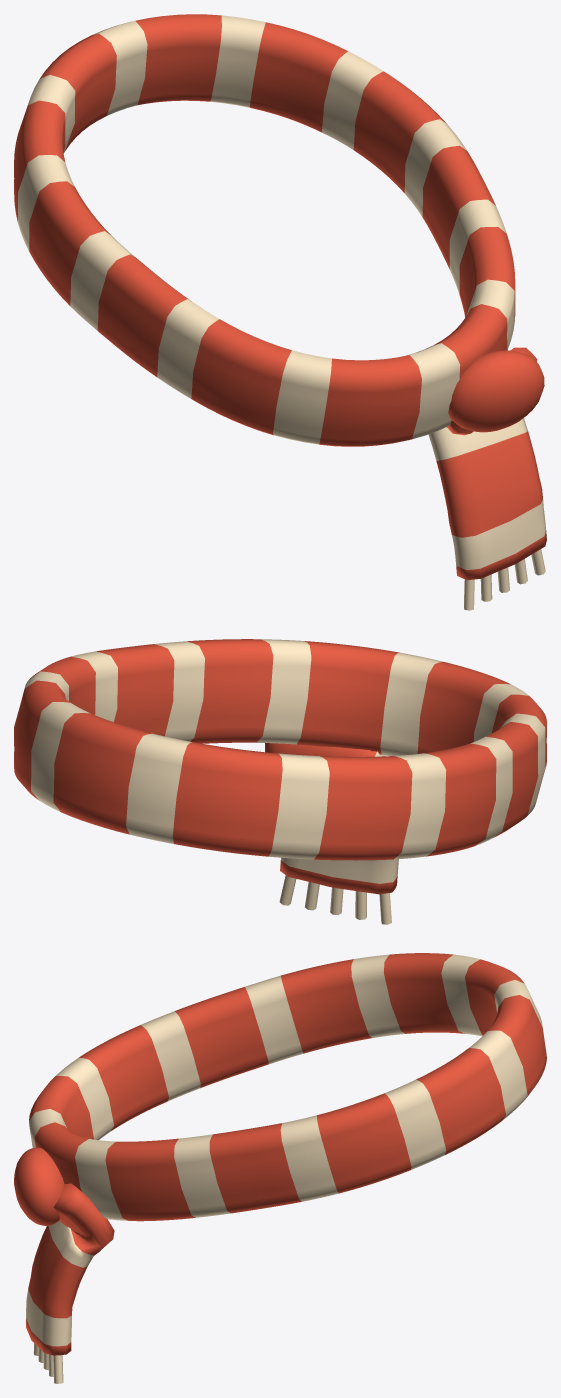
File: scarf.glb
The picture shows the model from 3 angles, top to bottom: view 1: azimuth 30°, elevation 25°; view 2: azimuth 150°, elevation 25°; view 3: azimuth 270°, elevation 25°; orthographic projection. The views are drawn at different scales.
Visible parts, largest first — view 1: loop, end, knot; view 2: loop, end, tassel_0; view 3: loop, end, knot.
Boxes of the visible parts, box(x1,y1,x2,y2) form: loop: box(14, 14, 515, 446); end: box(428, 347, 546, 580); knot: box(448, 350, 544, 432); loop: box(14, 639, 546, 860); end: box(265, 743, 398, 894); tassel_0: box(379, 893, 391, 924); loop: box(29, 953, 546, 1221); end: box(26, 1183, 114, 1355); knot: box(14, 1147, 64, 1225).
Size of the model in its own units: 0.3521 by 0.3326 by 0.4759.
